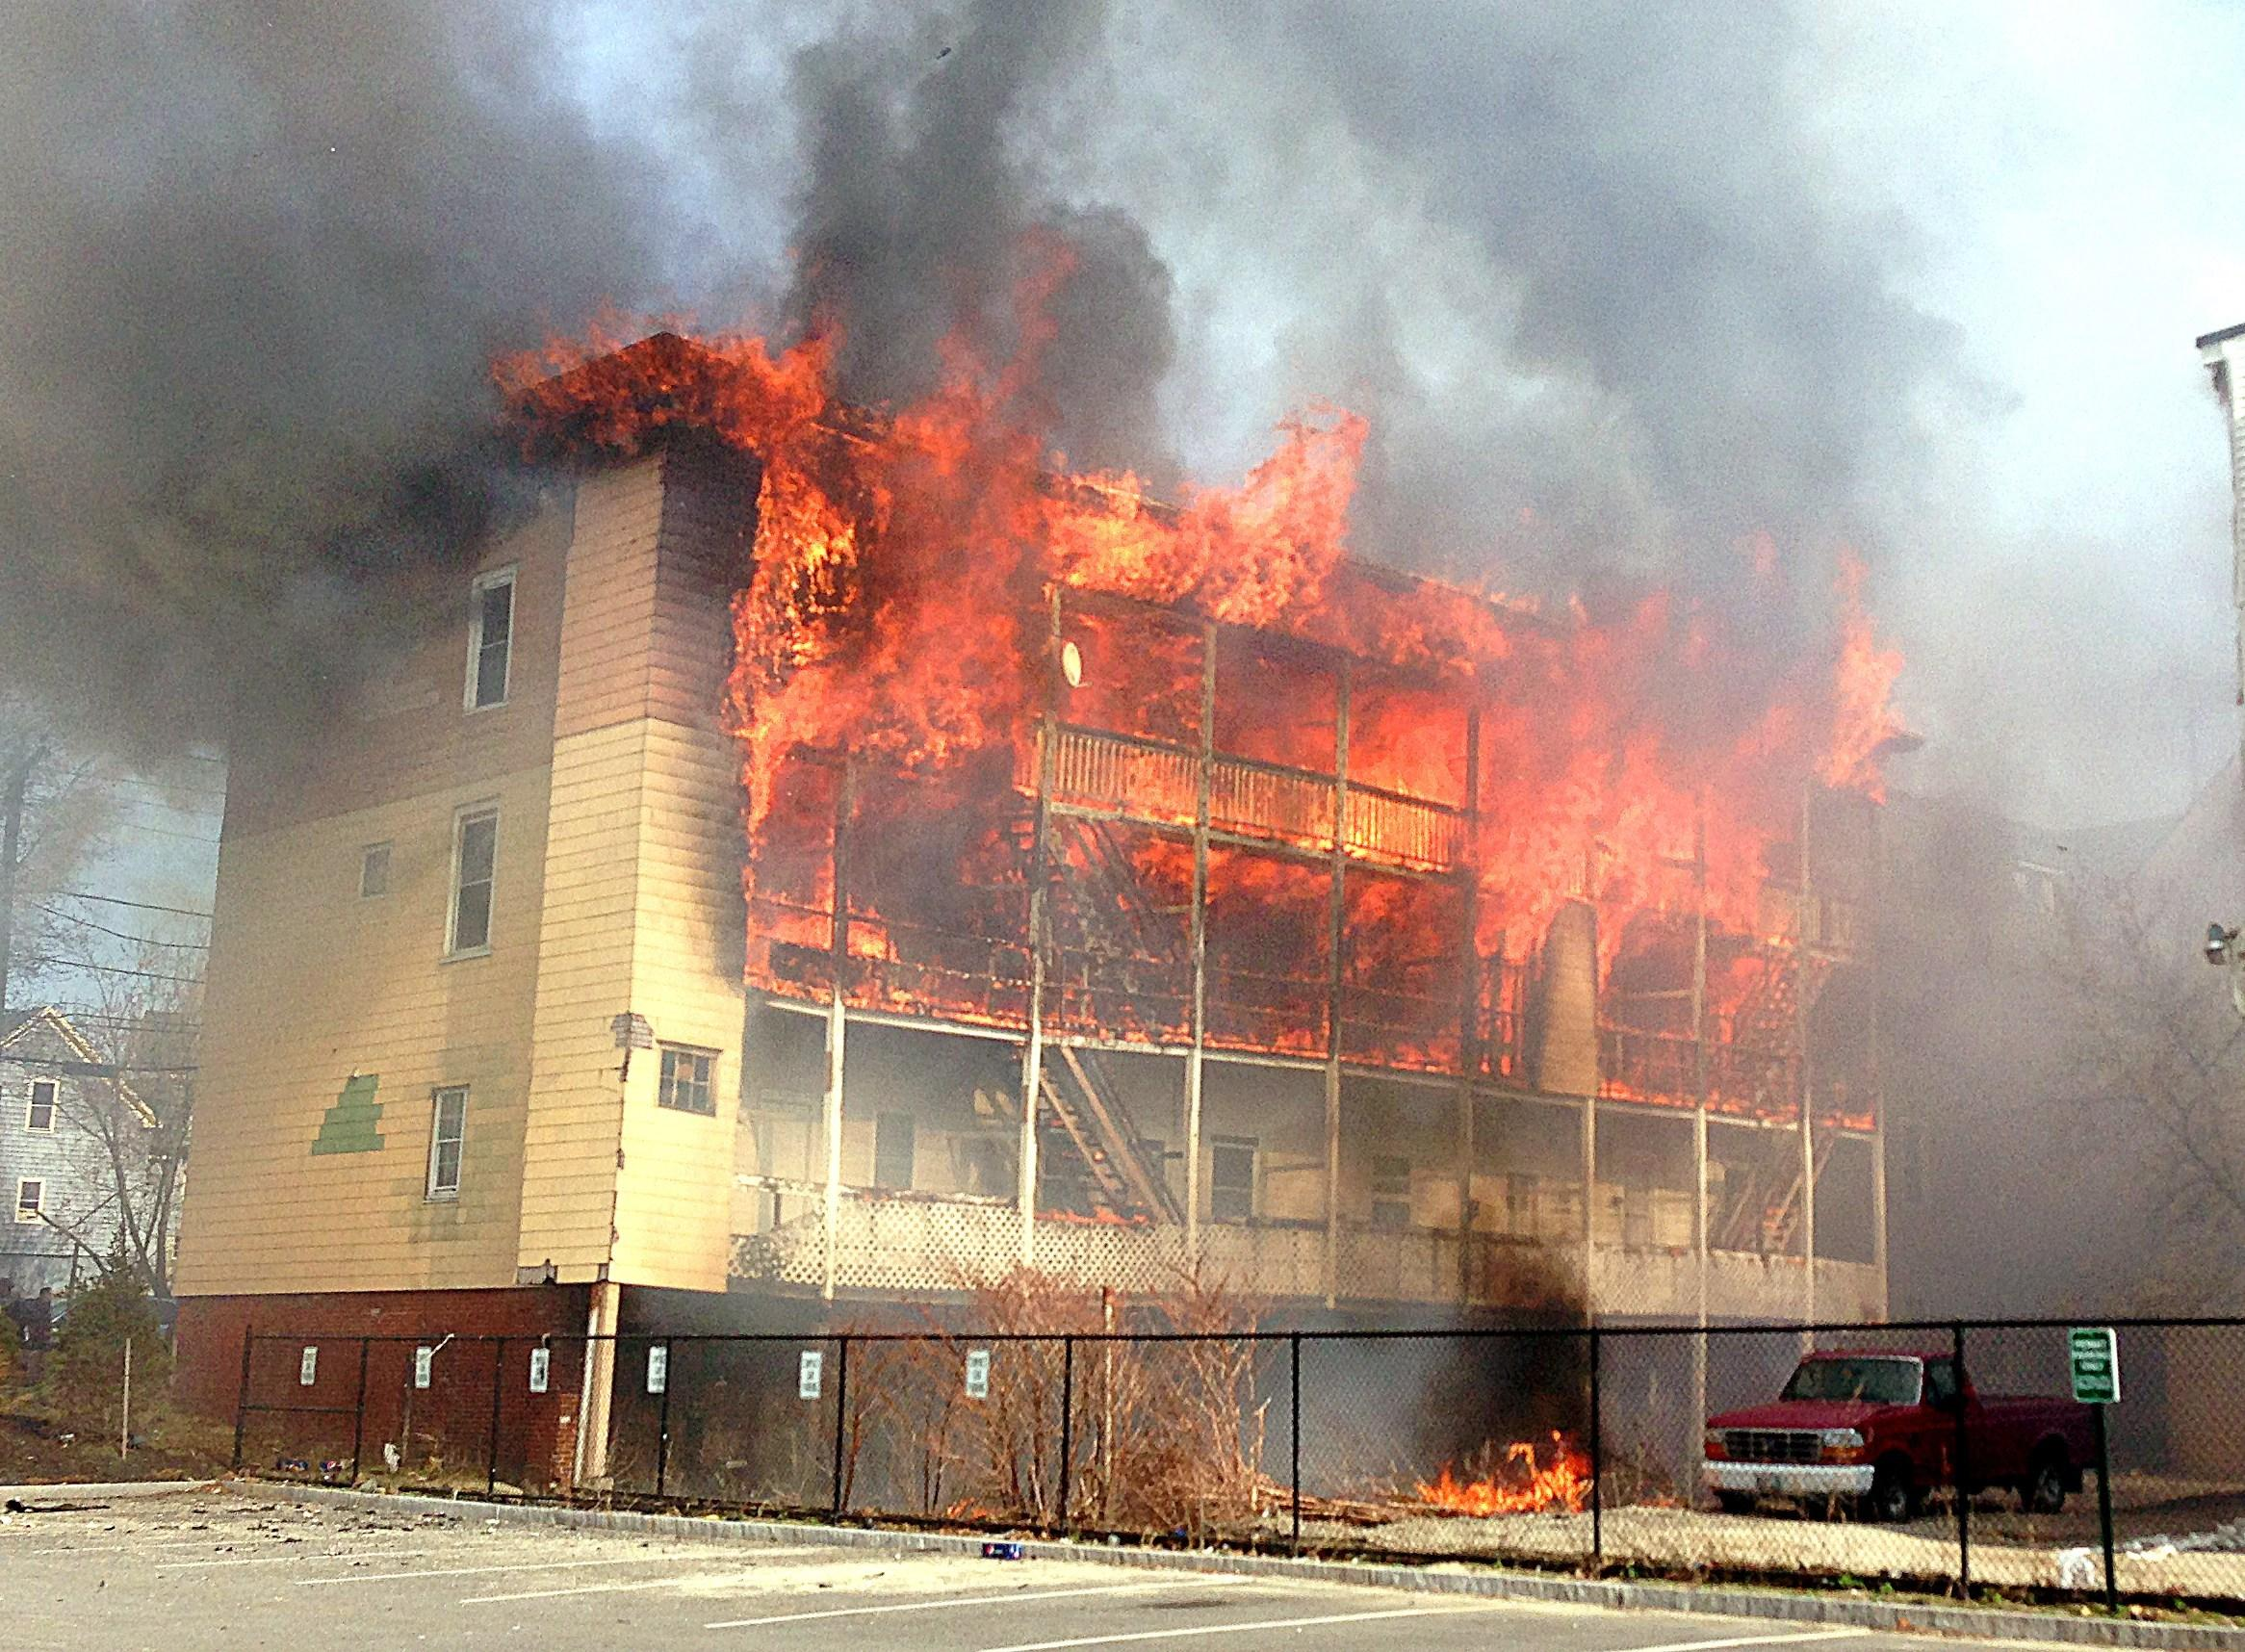Fire: (542, 335, 2092, 1089)
